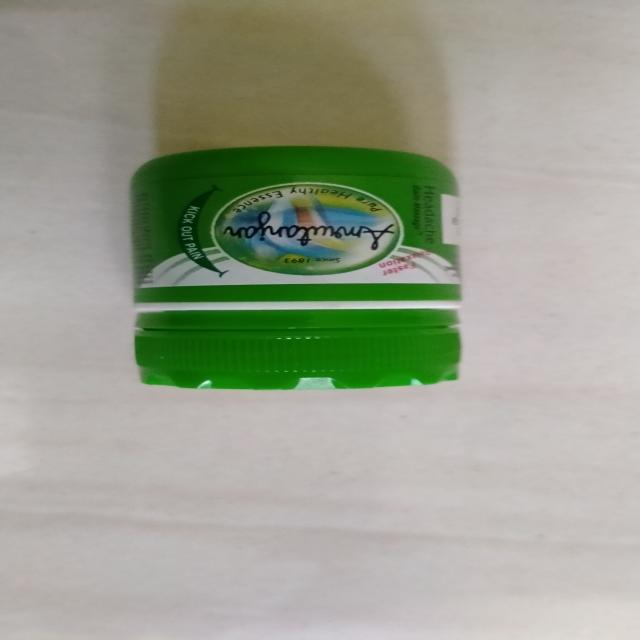eucalyptus oil: (107, 146, 486, 390)
